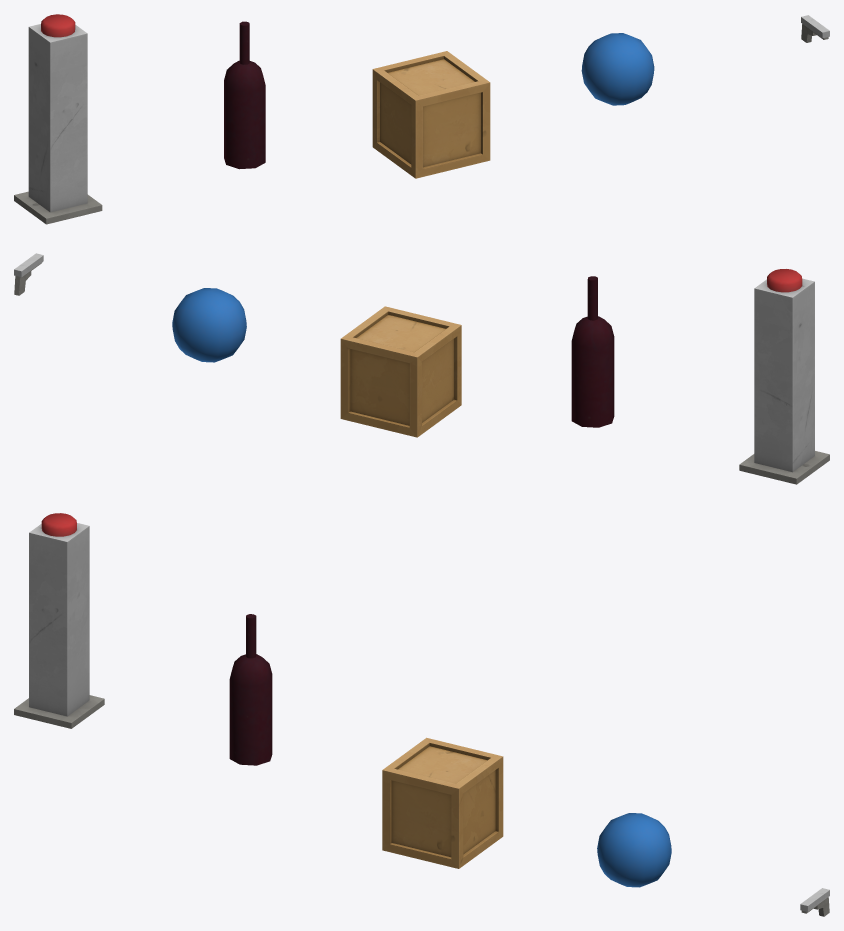
Rendered from Prototype Props.fbx.
The picture shows the model from 3 angles, top to bottom: view 1: azimuth 30°, elevation 25°; view 2: azimuth 150°, elevation 25°; view 3: azimuth 330°, elevation 25°; orthographic projection. The views are drawn at different scales.
Visible parts, largest first — view 1: Crate, Button, Bottle, Ball, Gun; view 2: Crate, Button, Bottle, Ball, Gun; view 3: Crate, Button, Bottle, Ball.
Part boxes in pixels (x1,y1,x2,y2): Crate: (372, 51, 490, 178); Button: (14, 14, 102, 224); Bottle: (224, 21, 265, 169); Ball: (581, 33, 654, 105); Gun: (801, 15, 829, 42); Crate: (340, 306, 461, 437); Button: (739, 269, 829, 484); Bottle: (571, 276, 614, 427); Ball: (172, 288, 246, 362); Gun: (14, 253, 43, 295); Crate: (382, 737, 503, 868); Button: (14, 513, 104, 728); Bottle: (229, 614, 272, 765); Ball: (597, 813, 671, 887).
Size of the model in its own units: 417 by 115 by 40.
Materials: 1 (1 with a texture image).
